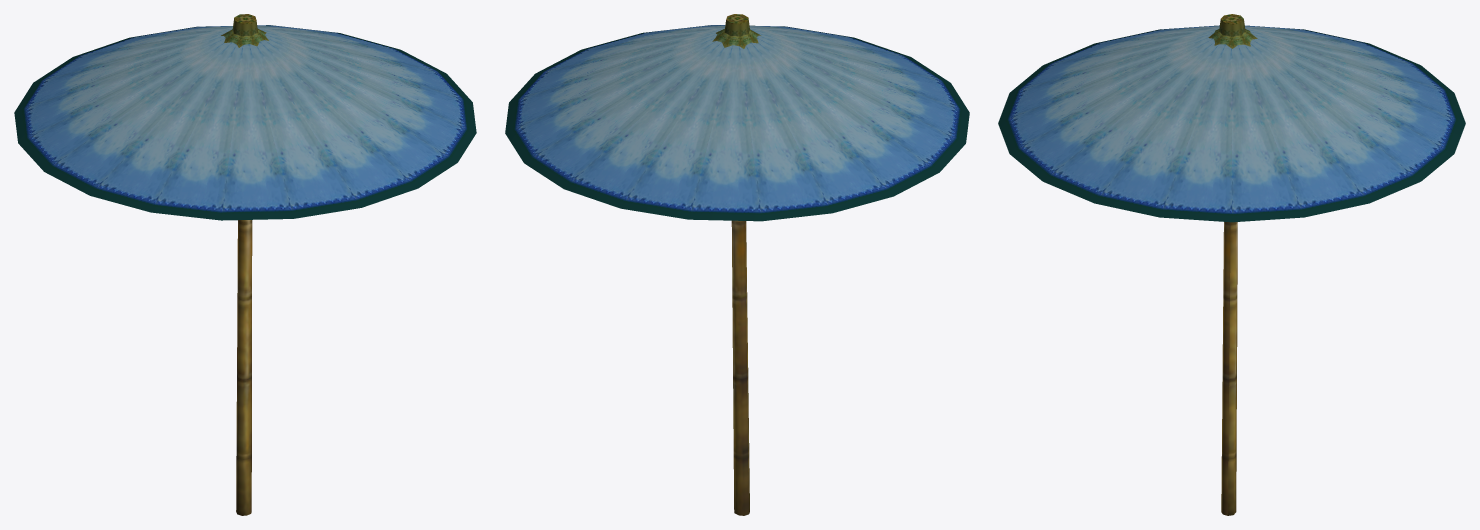
Rendered from YHJ_san_02.FBX.
The picture shows the model from 3 angles, left to right: view 1: azimuth 30°, elevation 25°; view 2: azimuth 150°, elevation 25°; view 3: azimuth 270°, elevation 25°; orthographic projection.
Parts seen in each view (by area): view 1: YHJ_san_02; view 2: YHJ_san_02; view 3: YHJ_san_02.
Boxes of the visible parts, x1,y1,x2,y2 form: YHJ_san_02: (14,14,476,515); YHJ_san_02: (505,14,969,515); YHJ_san_02: (998,14,1465,515).
Bounding box in the file's own units: 3.03 × 3.53 × 3.03.
